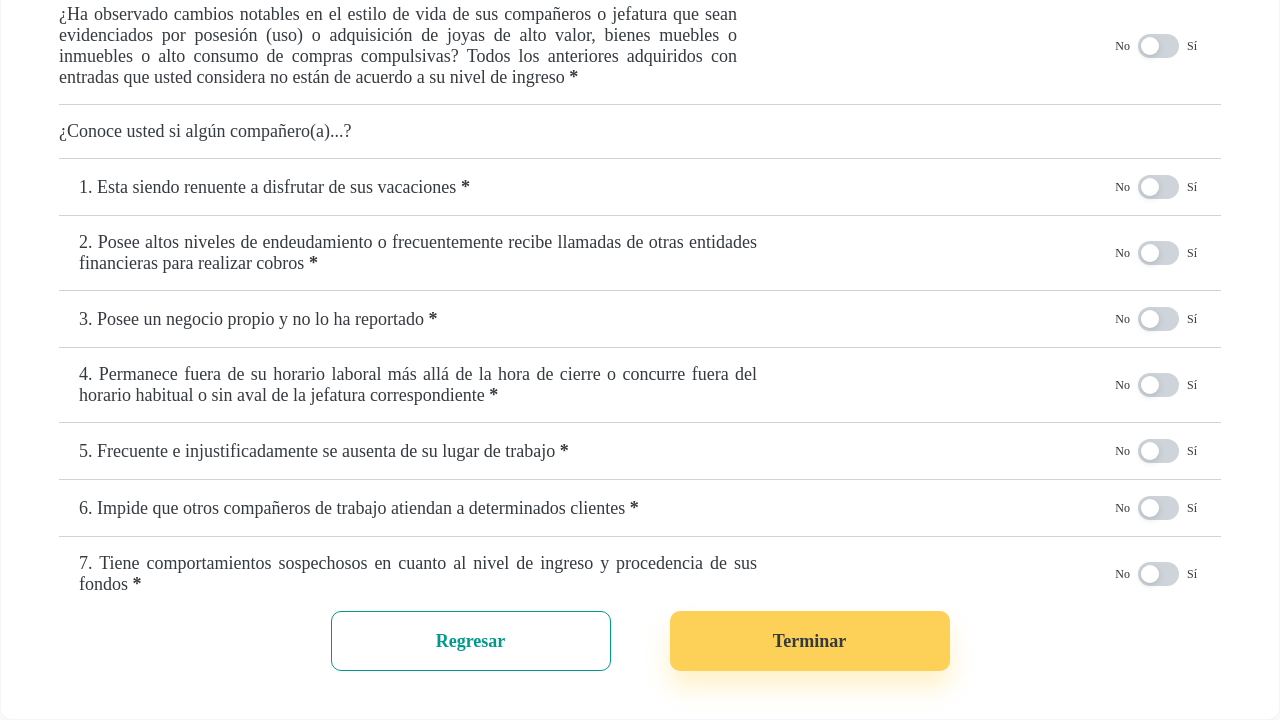
Scenario: Completion (paso 12, cierre) › asks for confirmation before saving and does not save until confirmed
The image size is (1280, 720).
(page scrolled)
Click the button "Terminar" at (810, 641), box left=670, top=611, right=950, bottom=671
(page scrolled)
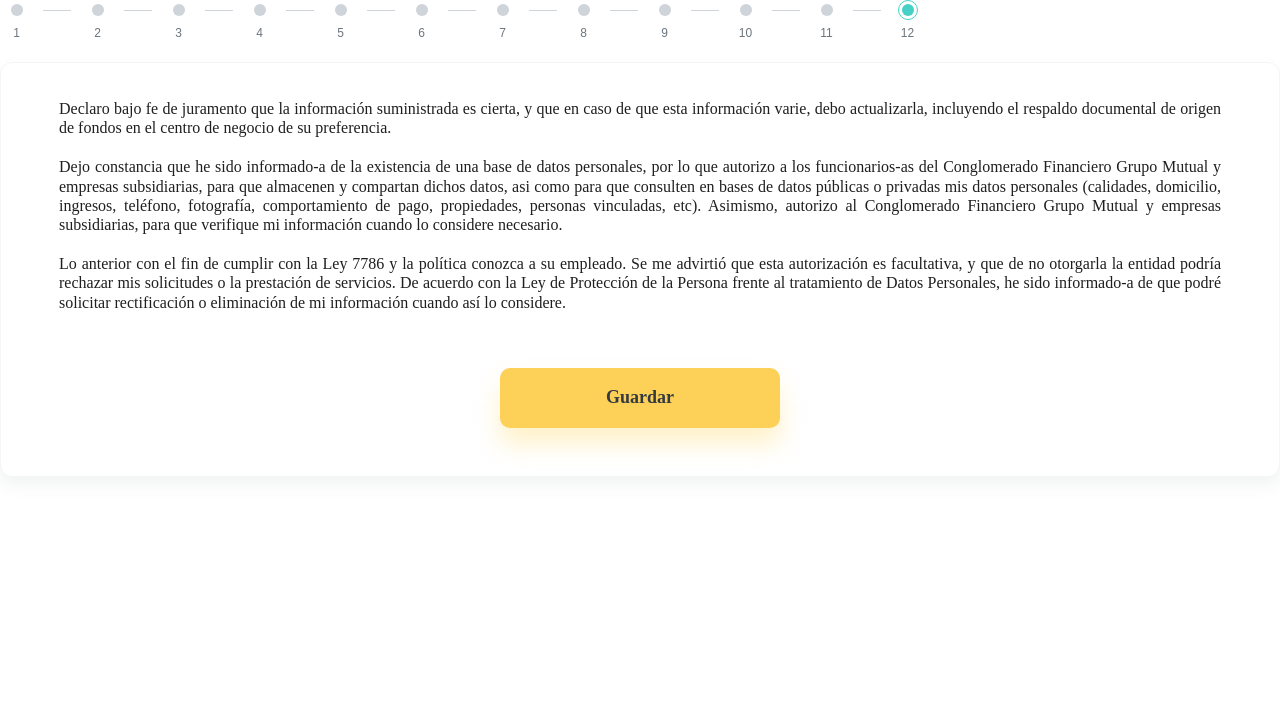
Click the button "Guardar" at (640, 398), box left=500, top=368, right=780, bottom=428
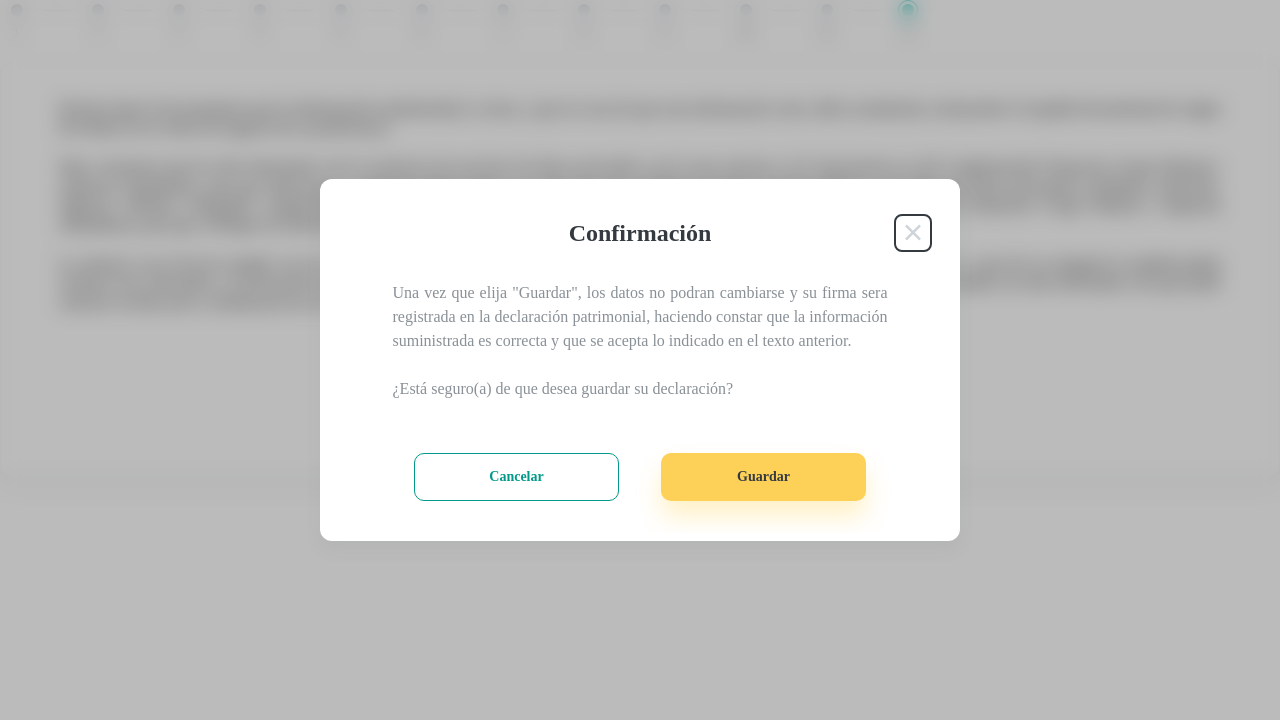
Expected: the text "Confirmación" is shown, left=569, top=219, right=711, bottom=247
Expected: the text "los datos no podran cambiarse" is shown, left=392, top=284, right=888, bottom=349
Expected: the text "¿Está seguro(a) de que desea guardar su declaración?" is shown, left=392, top=380, right=733, bottom=397
